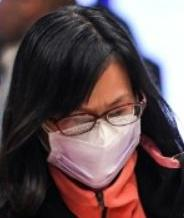OK: (45, 85, 140, 190)
